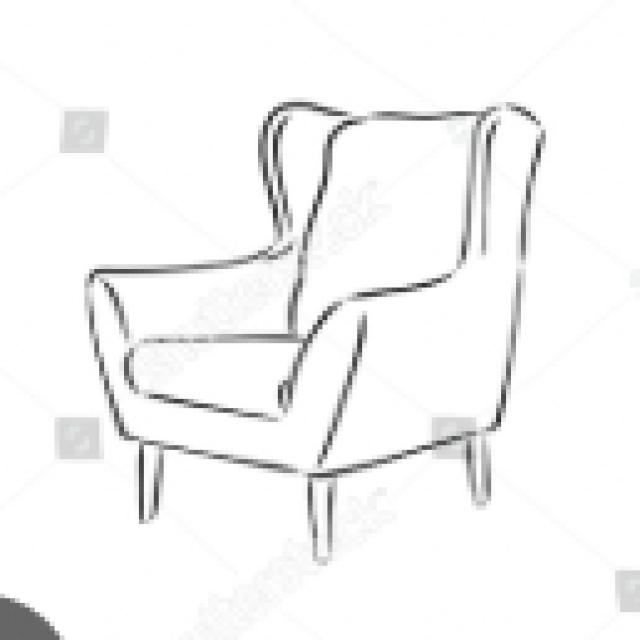Backrest: (283, 110, 482, 342)
Leg_Structure: (128, 421, 497, 571)
Seat: (127, 336, 303, 423)
Wing_Flange: (257, 104, 364, 252), (458, 108, 543, 259)
sofa_armrest: (278, 255, 521, 475), (81, 247, 304, 436)
